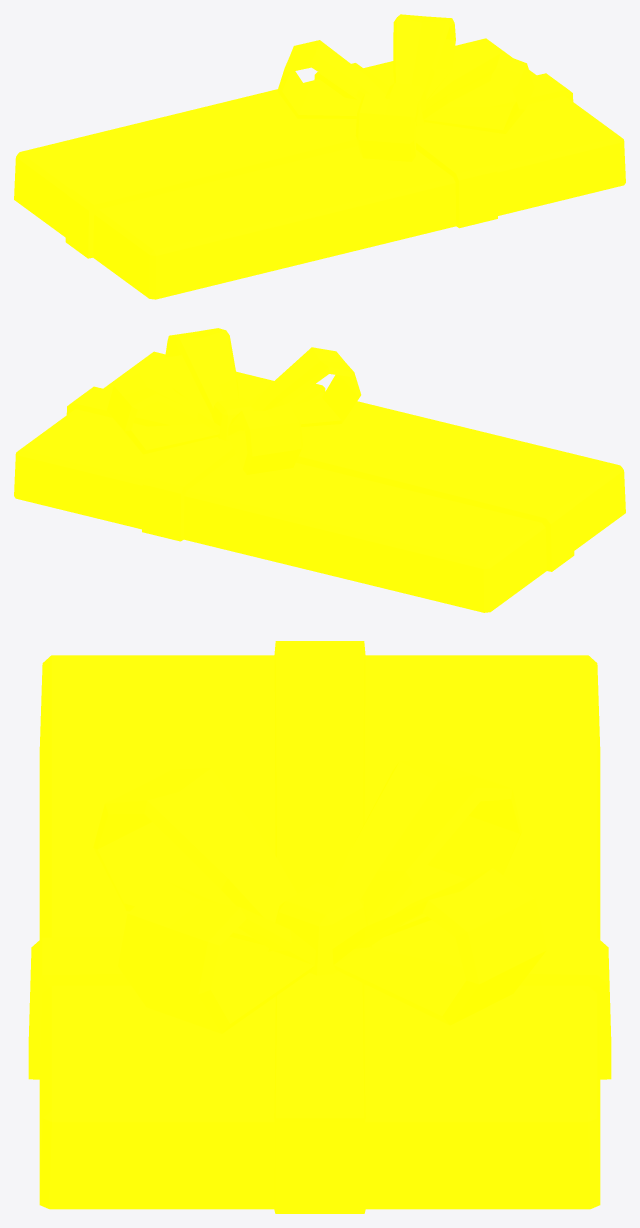
The model's file is gift-christmas-long-open-lid.glb.
3 renders of one model, top to bottom at view 1: azimuth 30°, elevation 25°; view 2: azimuth 150°, elevation 25°; view 3: azimuth 270°, elevation 25°, orthographic. The views are drawn at different scales.
Visible parts, largest first — view 1: gift_christmas_long_open_lid; view 2: gift_christmas_long_open_lid; view 3: gift_christmas_long_open_lid.
Part boxes in pixels (bbox=[...]): gift_christmas_long_open_lid: bbox=[14, 14, 625, 299]; gift_christmas_long_open_lid: bbox=[14, 328, 625, 612]; gift_christmas_long_open_lid: bbox=[28, 641, 611, 1213].
Size of the model in its own units: 0.6387 by 0.1447 by 0.3314.
Materials: 1 (1 with a texture image).
